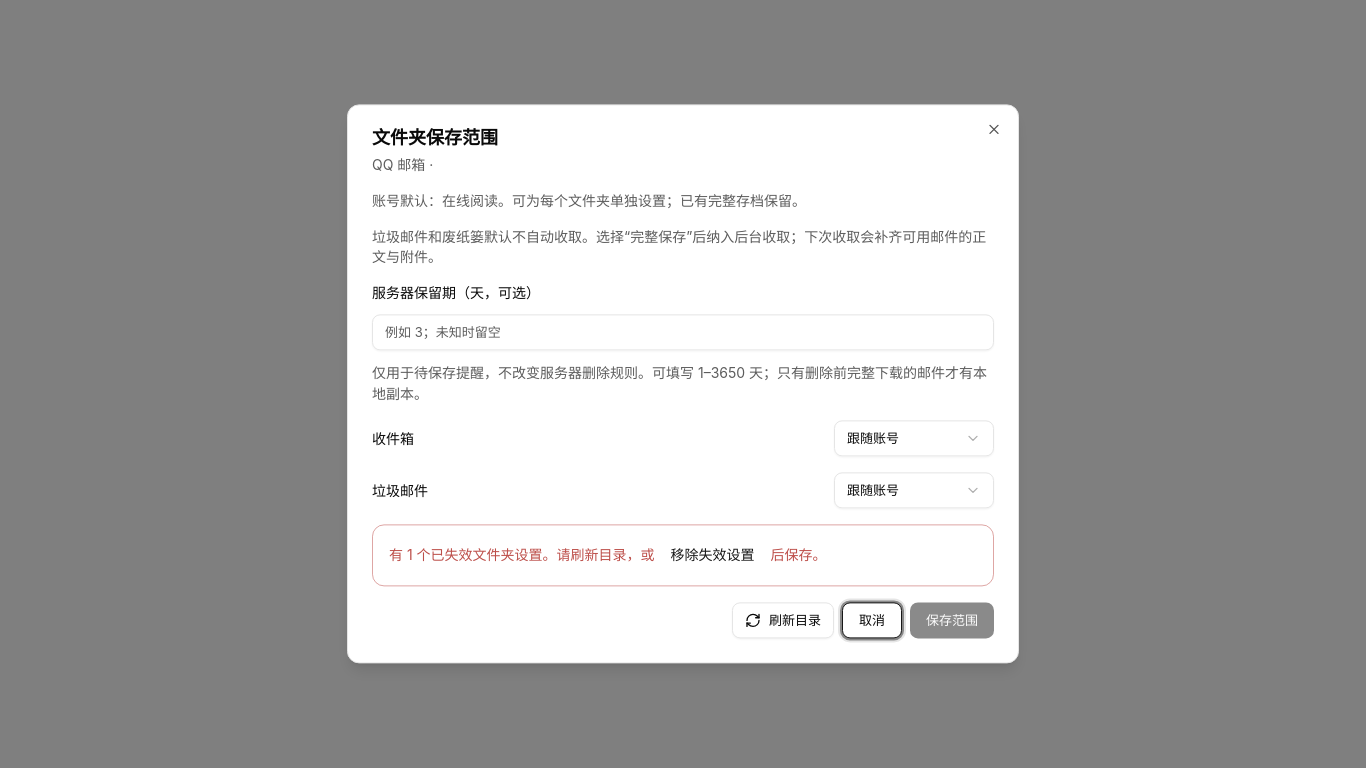
Scenario: requires removal of disappeared folders and displays save errors
Expected: the button "保存范围" is disabled, top-left (910, 603), bottom-right (994, 639)
Click the button "移除失效设置". click: (713, 556)
box: top-left (655, 538), bottom-right (771, 574)
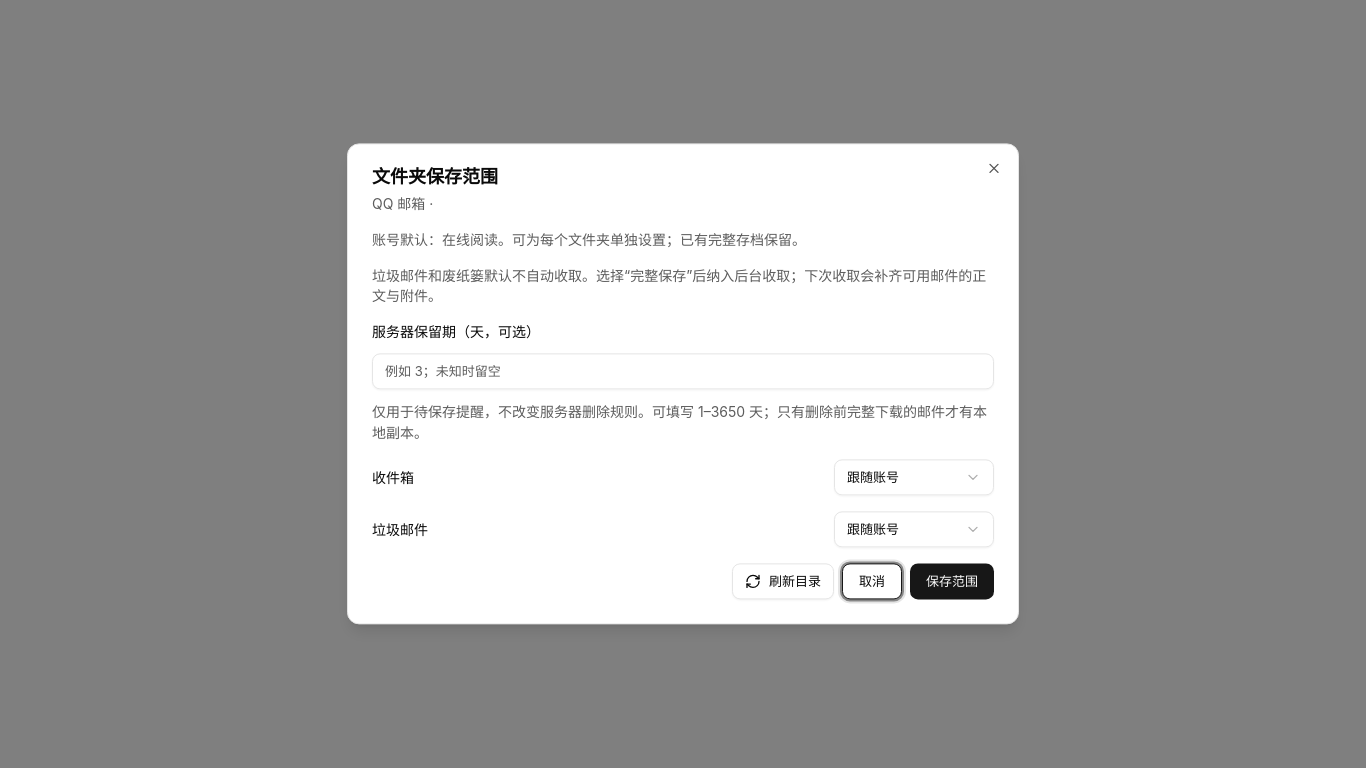
Expected: the button "保存范围" is enabled
Click the button "保存范围". click: (952, 582)
box: top-left (910, 564), bottom-right (994, 600)
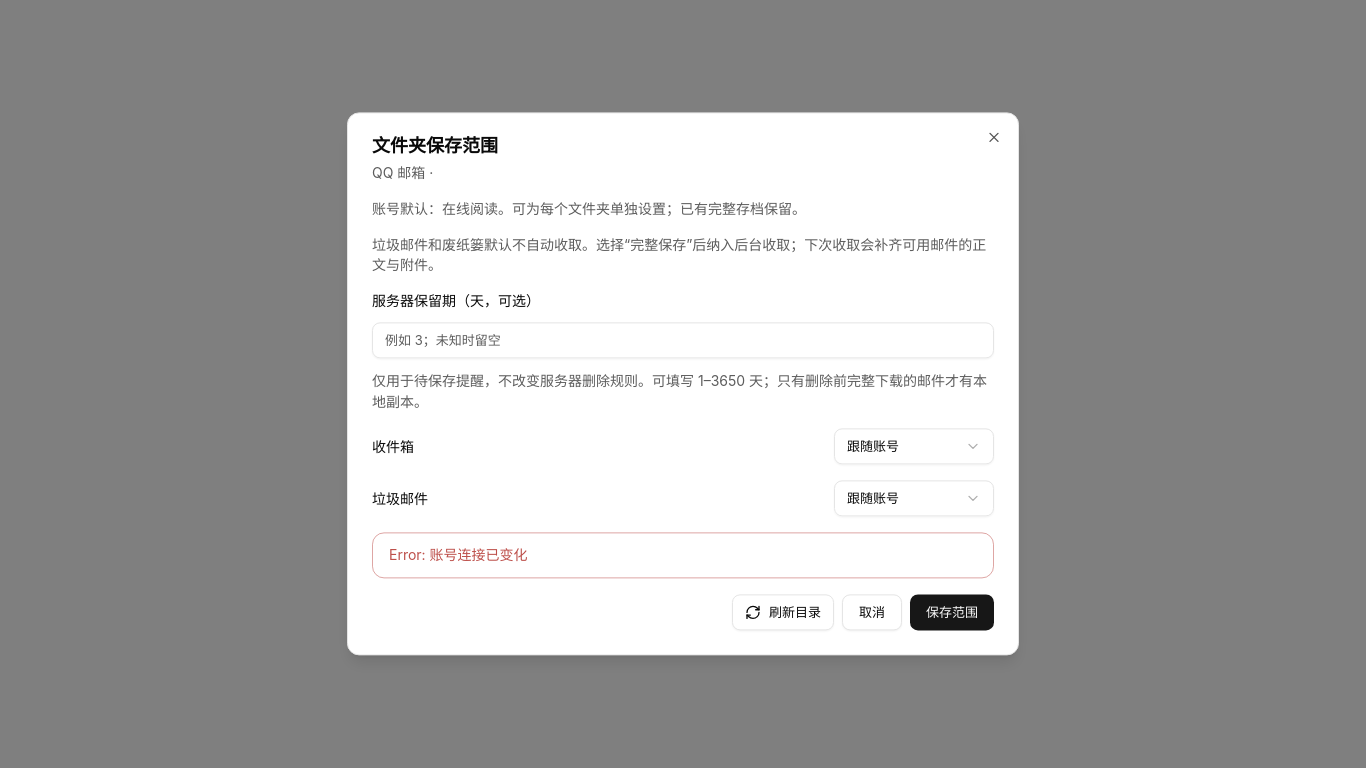
Expected: the text "账号连接已变化" is shown, top-left (389, 547), bottom-right (528, 564)
